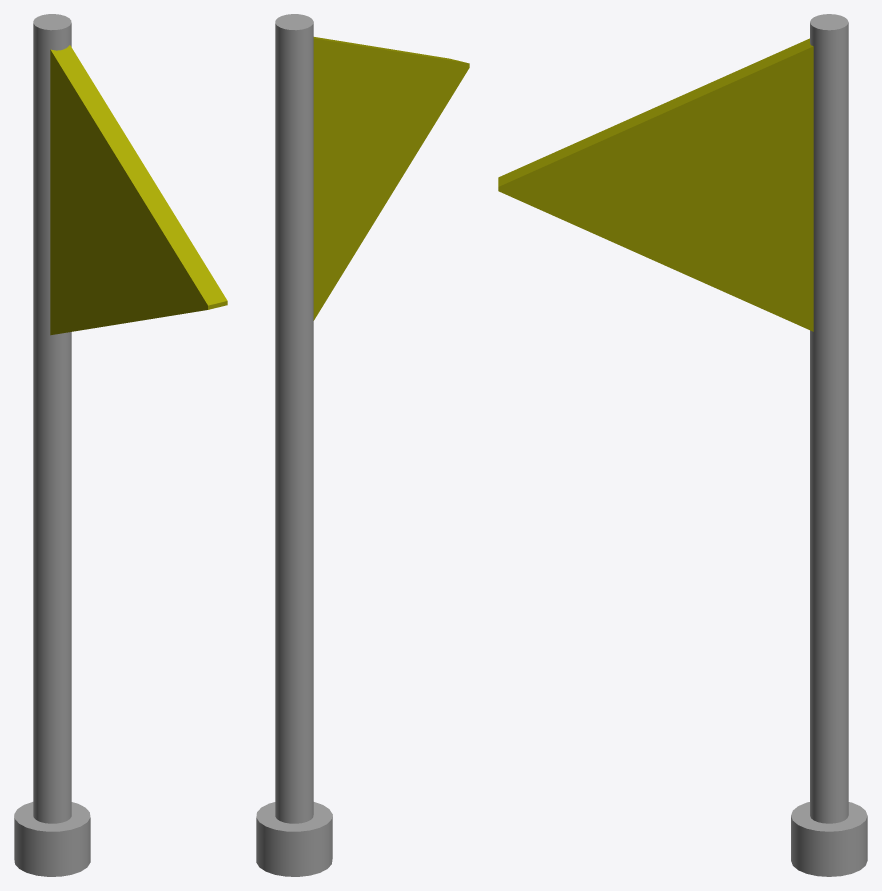
Rendered from flag.fbx.
The picture shows the model from 3 angles, left to right: view 1: azimuth 30°, elevation 25°; view 2: azimuth 150°, elevation 25°; view 3: azimuth 270°, elevation 25°; orthographic projection.
Visible parts, largest first — view 1: pCylinder4; view 2: pCylinder4; view 3: pCylinder4.
Part boxes in pixels (box(x1,y1,x2,y2)): pCylinder4: box(14, 14, 227, 876); pCylinder4: box(256, 14, 469, 876); pCylinder4: box(498, 14, 867, 876).
Size of the model in its own units: 2.23 by 26.94 by 10.74.
